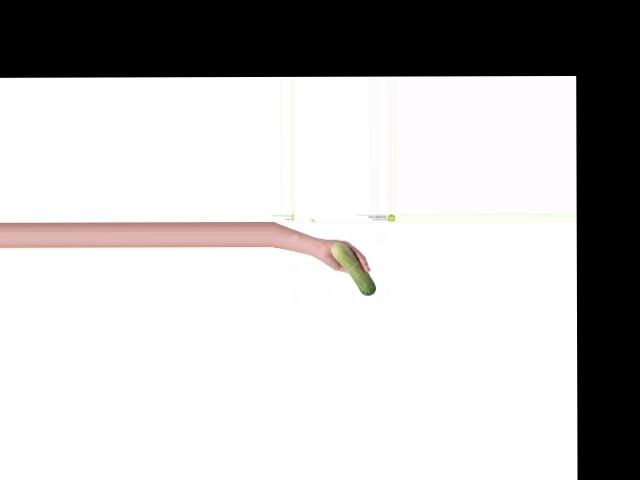cucumber: (330, 242, 374, 294)
